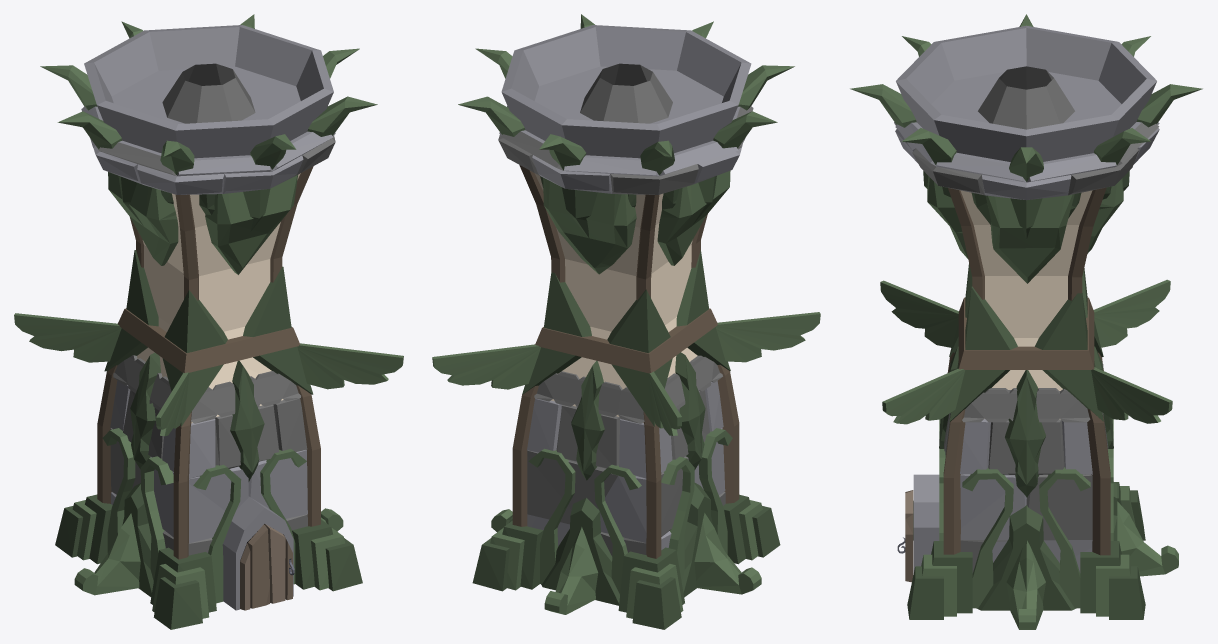
File: Canon_Tower_Body_LV4.fbx
The picture shows the model from 3 angles, left to right: view 1: azimuth 30°, elevation 25°; view 2: azimuth 150°, elevation 25°; view 3: azimuth 270°, elevation 25°; orthographic projection.
Parts seen in each view (by area): view 1: Cannon_tower_LVL_4; view 2: Cannon_tower_LVL_4; view 3: Cannon_tower_LVL_4.
Part boxes in pixels (x1,y1,x2,y2): Cannon_tower_LVL_4: [14, 14, 403, 629]; Cannon_tower_LVL_4: [432, 14, 820, 629]; Cannon_tower_LVL_4: [850, 14, 1202, 629].
Size of the model in its own units: 801 by 1235 by 801.
